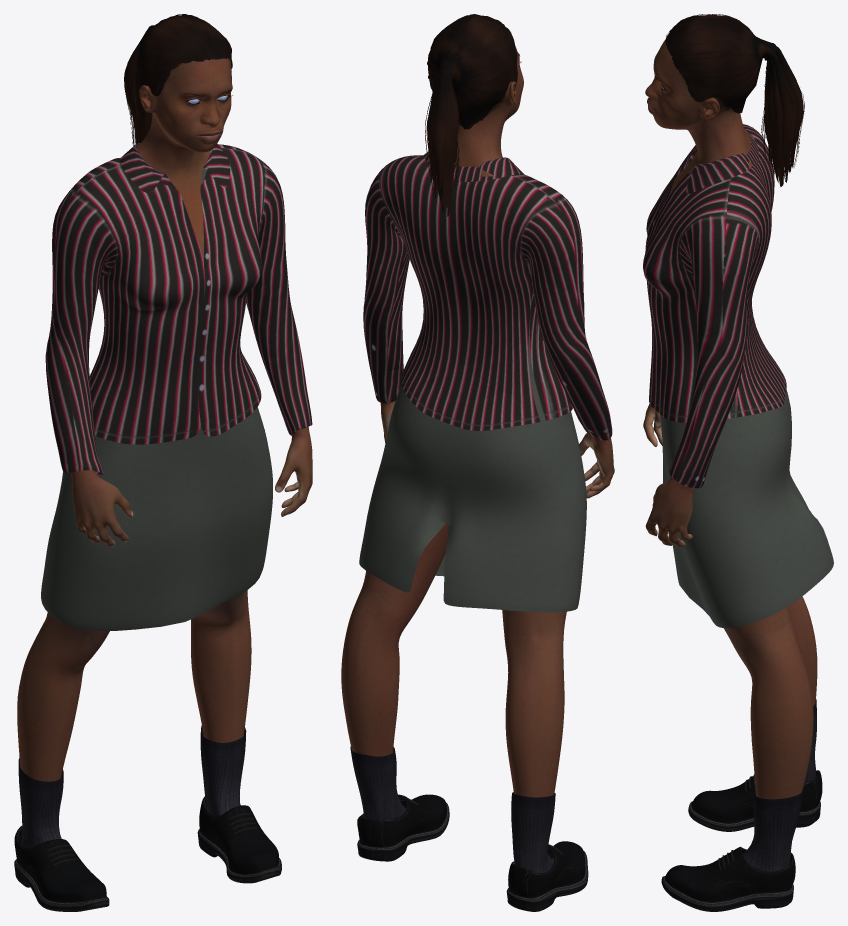
The model's file is adult-woman.glb.
The picture shows the model from 3 angles, left to right: view 1: azimuth 30°, elevation 25°; view 2: azimuth 150°, elevation 25°; view 3: azimuth 270°, elevation 25°; orthographic projection. The views are drawn at different scales.
Parts seen in each view (by area): view 1: woman_body.female_elegantsuit01, woman_body, woman_body.shoes03, woman_body.ponytail01; view 2: woman_body.female_elegantsuit01, woman_body, woman_body.shoes03, woman_body.ponytail01; view 3: woman_body.female_elegantsuit01, woman_body, woman_body.shoes03, woman_body.ponytail01.
Boxes of the visible parts, x1,y1,x2,y2 form: woman_body.female_elegantsuit01: (41, 143, 312, 631); woman_body: (17, 58, 312, 781); woman_body.shoes03: (14, 725, 281, 911); woman_body.ponytail01: (124, 14, 232, 145); woman_body.female_elegantsuit01: (359, 151, 612, 612); woman_body: (341, 45, 614, 797); woman_body.shoes03: (350, 746, 588, 911); woman_body.ponytail01: (425, 14, 517, 216); woman_body.female_elegantsuit01: (643, 124, 833, 627); woman_body: (643, 40, 817, 799); woman_body.shoes03: (661, 699, 822, 911); woman_body.ponytail01: (665, 14, 804, 186).
Bounding box in the file's own units: 0.4982 × 1.68 × 0.3404.
Materials: 8 (8 with a texture image).
